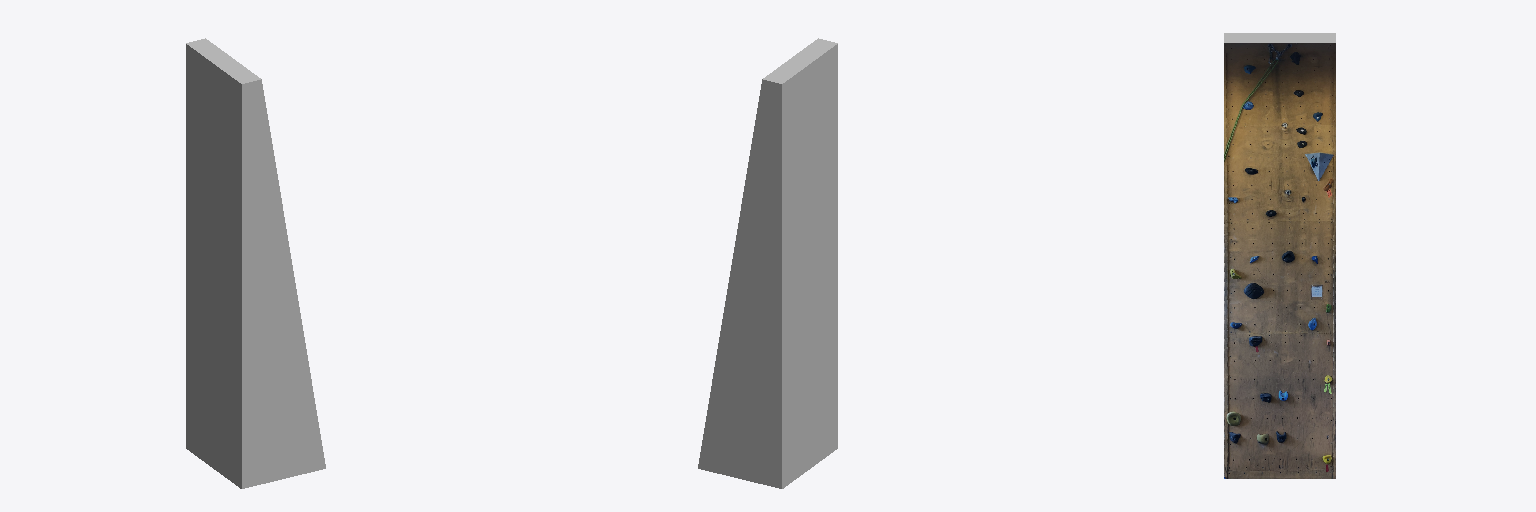
3 renders of one model, left to right at view 1: azimuth 30°, elevation 25°; view 2: azimuth 150°, elevation 25°; view 3: azimuth 270°, elevation 25°, orthographic.
Visible parts, largest first — view 1: Cube; view 2: Cube; view 3: Cube.
Part boxes in pixels (x1,y1,x2,y2): Cube: (186,38,325,488); Cube: (698,38,837,488); Cube: (1224,33,1335,478).
Size of the model in its own units: 1.05 by 4.8 by 1.2.
Materials: 2 (1 with a texture image).